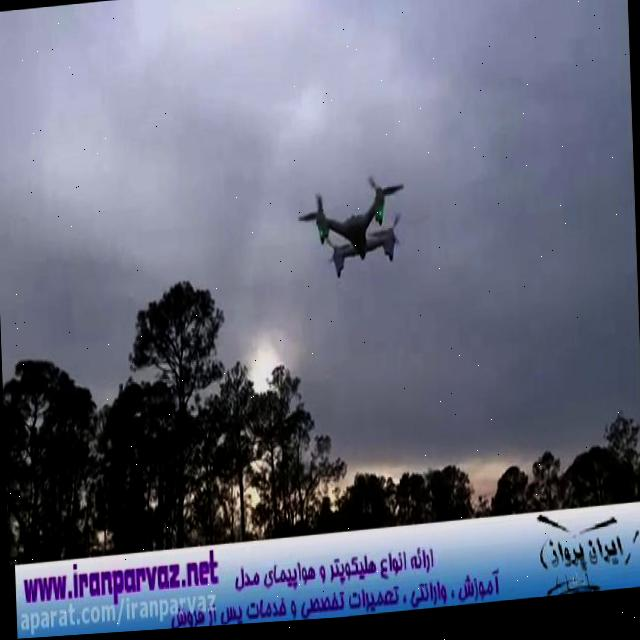drone: (291, 169, 414, 290)
